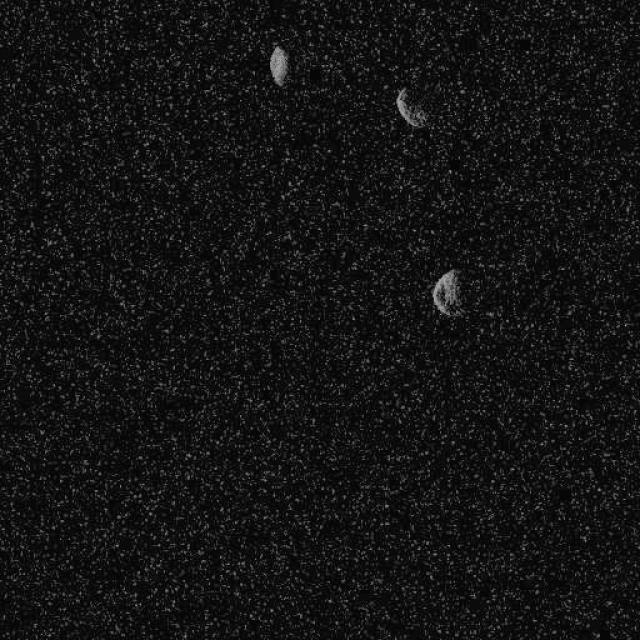D2: (430, 268, 468, 318), (395, 86, 429, 129), (268, 44, 288, 86)
